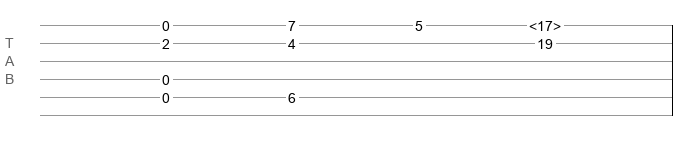0: (162, 72, 170, 82), (162, 18, 170, 28), (162, 90, 170, 100)
19: (537, 36, 553, 46)
2: (162, 36, 170, 46)
4: (288, 36, 296, 46)
5: (415, 18, 423, 28)
6: (288, 90, 296, 100)
7: (288, 18, 296, 28)
harmonic: (529, 18, 561, 28)
